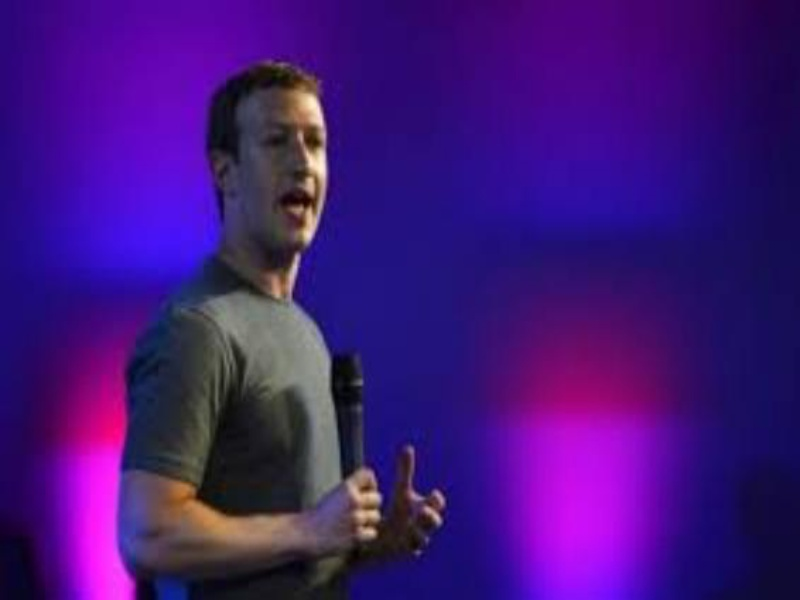TsisyArotava: (200, 51, 353, 272)
